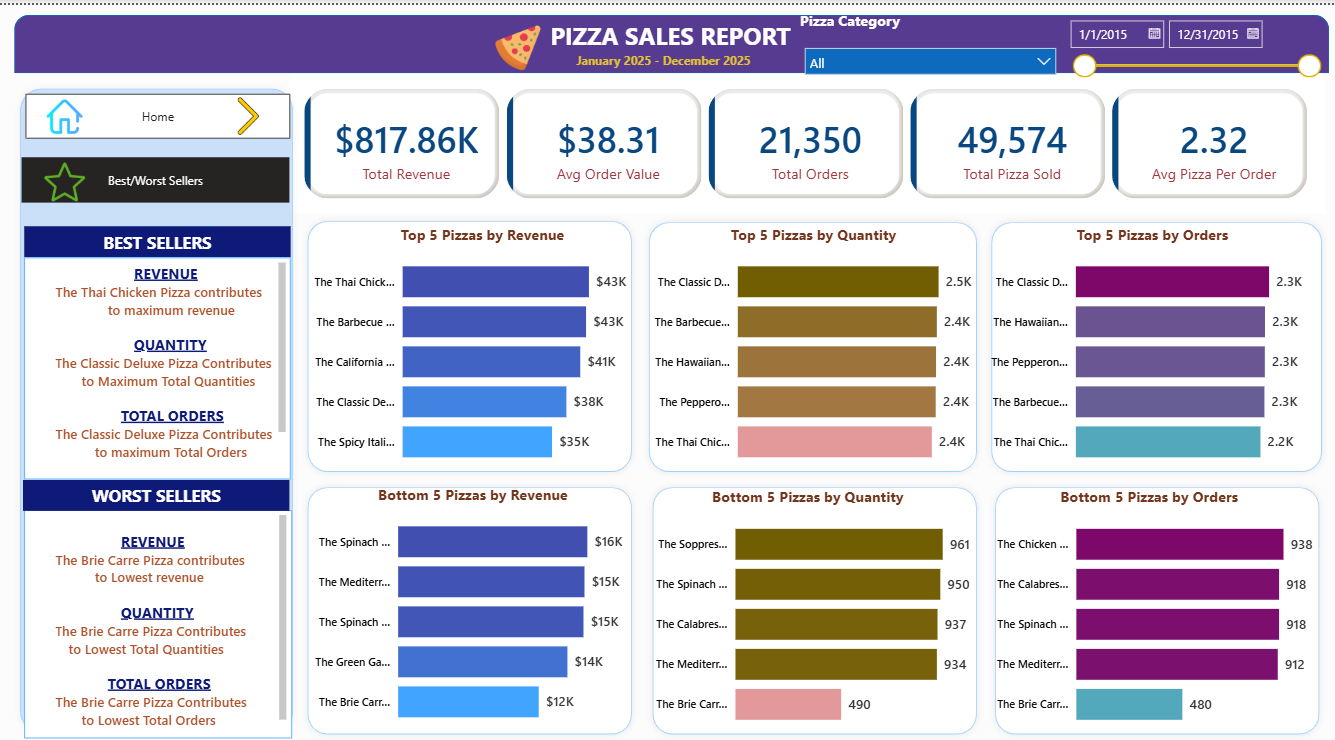

The page's visual inventory and layout, read from the dashboard file:
{"tool":"powerbi","page":{"name":"Best/Worst Sellers","canvas":[1500,820],"ordinal":1},"visuals":[{"type":"cardVisual","fields":{"Data":["pizza_sales.Total Revenue","pizza_sales.Avg Order Value","pizza_sales.Total Orders","pizza_sales.Total Pizza Sold","pizza_sales.Avg Pizza Per Order"]},"box":[325,76.2,1155,156.2],"z":0},{"type":"shape","box":[17.5,11.2,1465,65],"z":1000},{"type":"textbox","box":[596.2,11.2,306.2,46.2],"z":2000},{"type":"textbox","box":[638.8,47.5,208.8,38.8],"z":3000},{"type":"image","box":[552.5,15,52.5,65],"z":4000},{"type":"shape","box":[337.1,232.9,377.1,295.7],"z":5000},{"type":"shape","box":[16.7,85.6,320,734.3],"z":6000},{"type":"textbox","box":[28.9,246.7,296.7,34.4],"z":7000},{"type":"textbox","box":[28.6,281.4,297.1,247.1],"z":8000},{"type":"textbox","box":[28.6,562.9,298.6,254.3],"z":9000},{"type":"textbox","box":[27.8,528.9,296.7,34.4],"z":10000},{"type":"slicer","fields":{"Values":["pizza_sales.order_date"]},"box":[1182.9,7.1,300,74.3],"z":11000},{"type":"slicer","title":"Pizza Category","fields":{"Values":["pizza_sales.pizza_category"]},"box":[889,6,300,72],"z":12000},{"type":"shape","box":[717.1,234.3,381.4,294.3],"z":13000},{"type":"shape","box":[1098.6,234.3,384.3,294.3],"z":14000},{"type":"shape","box":[337.1,528.6,377.1,291.4],"z":15000},{"type":"shape","box":[721.4,528.6,377.1,291.4],"z":16000},{"type":"shape","box":[1102.9,528.6,377.1,291.4],"z":17000},{"type":"barChart","title":"Top 5 Pizzas by Revenue","fields":{"Category":["pizza_sales.pizza_name"],"Y":["pizza_sales.Total Revenue"]},"box":[337.1,244.3,405.7,284.3],"z":18000},{"type":"barChart","title":"Bottom 5 Pizzas by Revenue","fields":{"Category":["pizza_sales.pizza_name"],"Y":["pizza_sales.Total Revenue"]},"box":[337.1,532.9,384.3,284.3],"z":19000},{"type":"barChart","title":"Top 5 Pizzas by Quantity","fields":{"Category":["pizza_sales.pizza_name"],"Y":["pizza_sales.Total Pizza Sold"]},"box":[714.3,244.3,388.6,284.3],"z":20000},{"type":"barChart","title":"Bottom 5 Pizzas by Quantity","fields":{"Category":["pizza_sales.pizza_name"],"Y":["pizza_sales.Total Pizza Sold"]},"box":[715.7,535.7,372.9,284.3],"z":21000},{"type":"barChart","title":"Top 5 Pizzas by Orders","fields":{"Category":["pizza_sales.pizza_name"],"Y":["pizza_sales.Total Orders"]},"box":[1088.6,244.3,394.3,284.3],"z":22000},{"type":"barChart","title":"Bottom 5 Pizzas by Orders","fields":{"Category":["pizza_sales.pizza_name"],"Y":["pizza_sales.Total Orders"]},"box":[1094.3,535.7,375.7,284.3],"z":23000},{"type":"pageNavigator","box":[30,98.6,295.7,50],"z":23001},{"type":"pageNavigator","box":[27.1,170,298.6,50],"z":23002},{"type":"image","box":[38.6,104.3,70,40],"z":23003},{"type":"image","box":[51.4,150,45.7,94.3],"z":23004},{"type":"image","box":[234.3,102.9,90,41.4],"z":23005}]}

Visuals, with their boxes in screenshot pixels (x1, y1, x2, y2), scaled from the page's 1500x820 canvas onto the 1335x740 screenshot:
cardVisual - pizza_sales.Total Revenue x pizza_sales.Avg Order Value: (289, 69, 1317, 210)
shape: (16, 10, 1319, 69)
textbox: (531, 10, 803, 52)
textbox: (569, 43, 754, 78)
image: (492, 14, 538, 72)
shape: (300, 210, 636, 477)
shape: (15, 77, 300, 739)
textbox: (26, 223, 290, 254)
textbox: (25, 254, 290, 477)
textbox: (25, 508, 291, 737)
textbox: (25, 477, 289, 508)
slicer - pizza_sales.order_date: (1053, 6, 1320, 73)
"Pizza Category" slicer: (791, 5, 1058, 70)
shape: (638, 211, 978, 477)
shape: (978, 211, 1320, 477)
shape: (300, 477, 636, 739)
shape: (642, 477, 978, 739)
shape: (982, 477, 1317, 739)
"Top 5 Pizzas by Revenue" barChart: (300, 220, 661, 477)
"Bottom 5 Pizzas by Revenue" barChart: (300, 481, 642, 737)
"Top 5 Pizzas by Quantity" barChart: (636, 220, 982, 477)
"Bottom 5 Pizzas by Quantity" barChart: (637, 483, 969, 739)
"Top 5 Pizzas by Orders" barChart: (969, 220, 1320, 477)
"Bottom 5 Pizzas by Orders" barChart: (974, 483, 1308, 739)
pageNavigator: (27, 89, 290, 134)
pageNavigator: (24, 153, 290, 199)
image: (34, 94, 97, 130)
image: (46, 135, 86, 220)
image: (209, 93, 289, 130)
